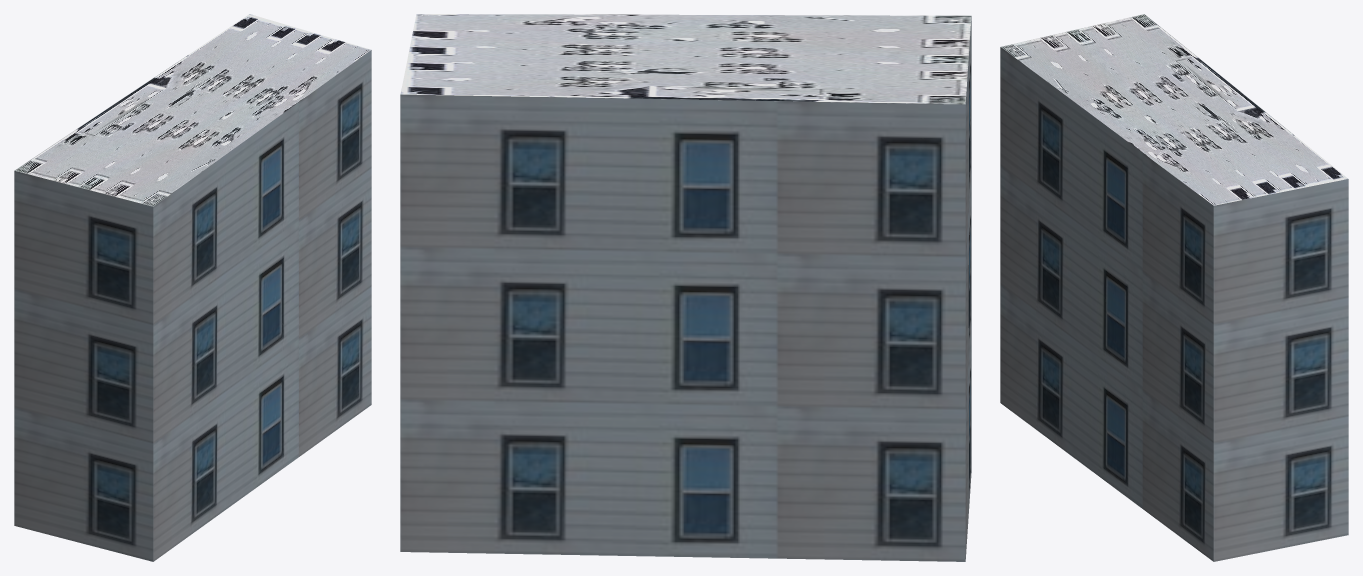
File: ResTex__5303.fbx
The picture shows the model from 3 angles, left to right: view 1: azimuth 30°, elevation 25°; view 2: azimuth 150°, elevation 25°; view 3: azimuth 270°, elevation 25°; orthographic projection. The views are drawn at different scales.
Parts seen in each view (by area): view 1: CityEngineMaterial_18_m, CityEngineMaterial_4_m; view 2: CityEngineMaterial_18_m, CityEngineMaterial_4_m; view 3: CityEngineMaterial_18_m, CityEngineMaterial_4_m.
Boxes of the visible parts, left/top/right/bottom form: CityEngineMaterial_18_m: left=14, top=50, right=371, bottom=561; CityEngineMaterial_4_m: left=15, top=14, right=371, bottom=206; CityEngineMaterial_18_m: left=400, top=16, right=971, bottom=561; CityEngineMaterial_4_m: left=400, top=14, right=971, bottom=104; CityEngineMaterial_18_m: left=1000, top=47, right=1348, bottom=561; CityEngineMaterial_4_m: left=1001, top=14, right=1347, bottom=205.
Bounding box in the file's own units: 10.39 × 9 × 7.97.
2 materials, 2 textured.
